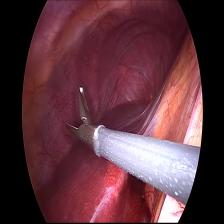Grasper: (64, 83, 98, 154)
